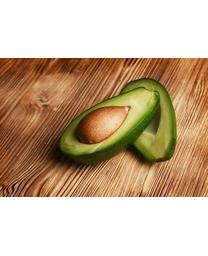avocado: (58, 86, 159, 164), (119, 77, 177, 162)
